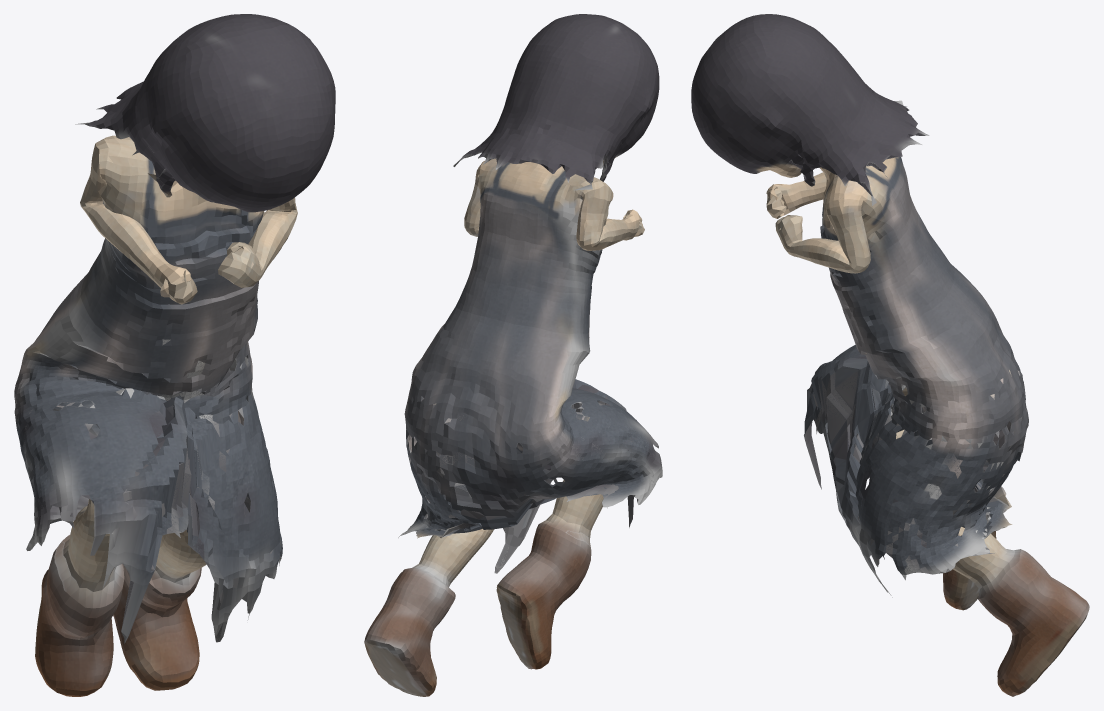
Rendered from Chara_Jump_01.fbx.
3 views of the same model, side by side, from view 1: azimuth 30°, elevation 25°; view 2: azimuth 150°, elevation 25°; view 3: azimuth 270°, elevation 25° (orthographic). The views are drawn at different scales.
Visible parts, largest first — view 1: PM3D_ce_ping_ju__jian_mian:Group61707; view 2: PM3D_ce_ping_ju__jian_mian:Group61707; view 3: PM3D_ce_ping_ju__jian_mian:Group61707.
Part boxes in pixels (left/top/right/bottom): PM3D_ce_ping_ju__jian_mian:Group61707: left=14, top=14, right=335, bottom=696; PM3D_ce_ping_ju__jian_mian:Group61707: left=364, top=14, right=662, bottom=696; PM3D_ce_ping_ju__jian_mian:Group61707: left=691, top=14, right=1089, bottom=696.
Size of the model in its own units: 0.3266 by 0.8994 by 0.5075.
1 material, 1 textured.
